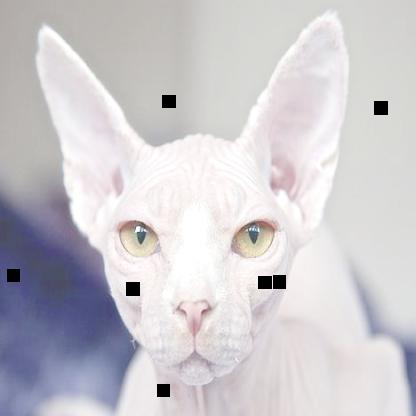cat: (35, 9, 372, 415)
